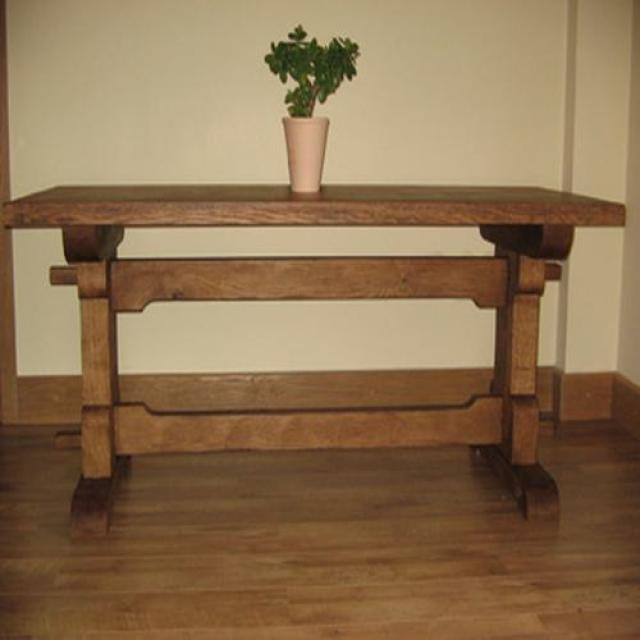table: (0, 186, 628, 539)
